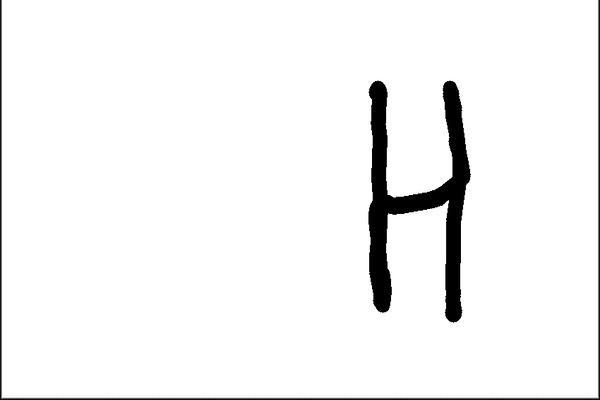H: (356, 76, 477, 325)
